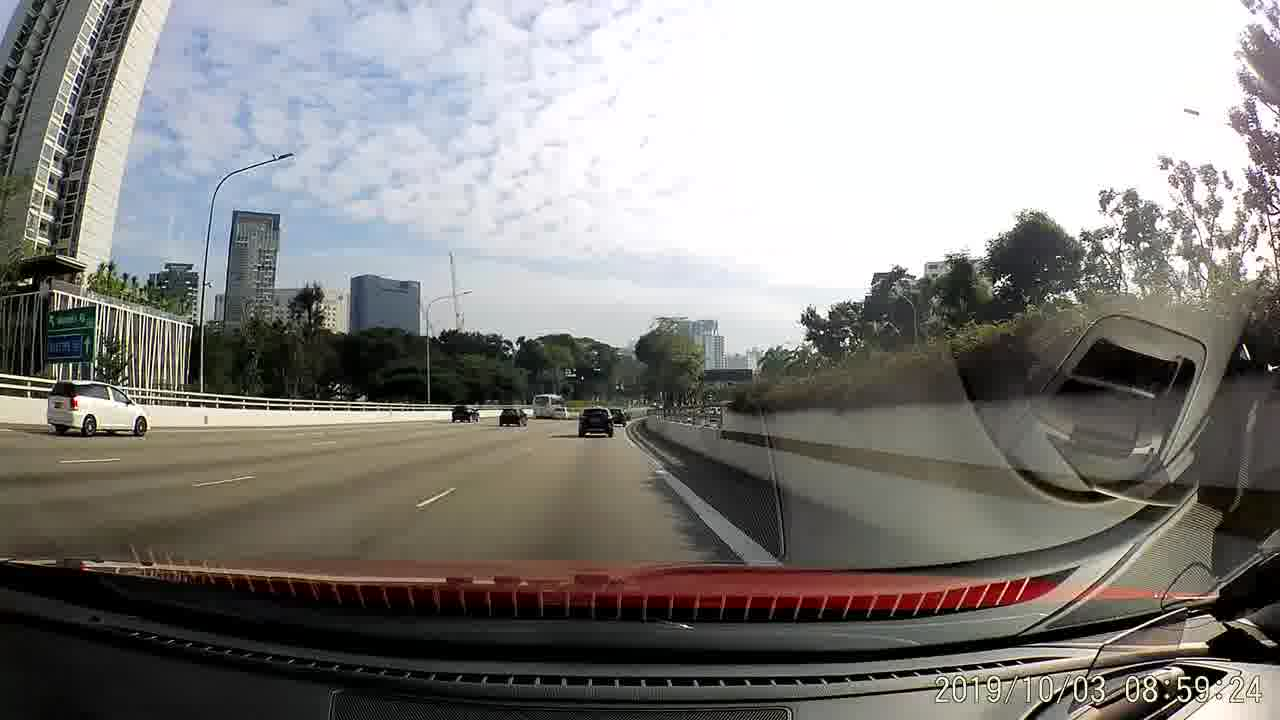bus: (531, 390, 566, 421)
car: (45, 374, 150, 437), (578, 405, 614, 438), (450, 401, 480, 423), (498, 405, 528, 426), (607, 405, 628, 430), (555, 406, 570, 418)
